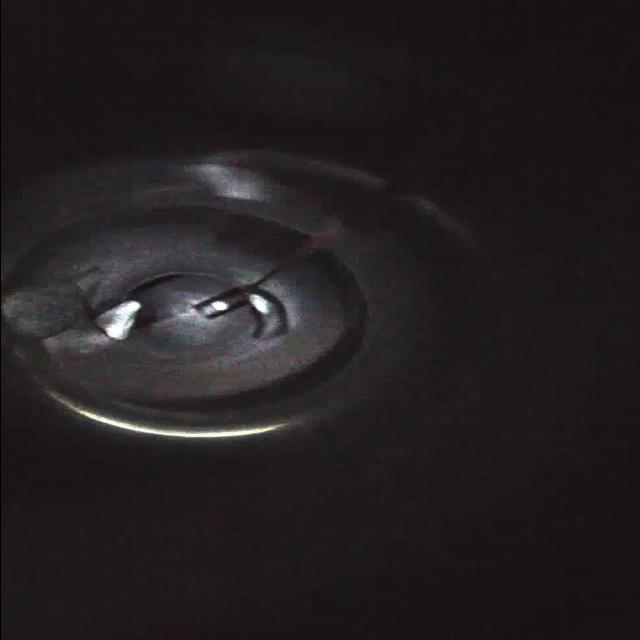impurity: (0, 280, 83, 342), (88, 299, 145, 344)
